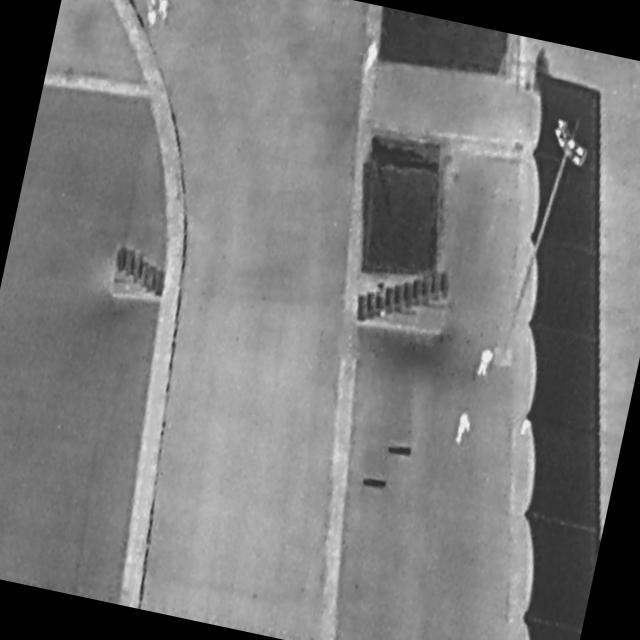person: (453, 408, 476, 448), (361, 37, 382, 78), (475, 344, 497, 381), (150, 1, 178, 25), (140, 1, 163, 30)
